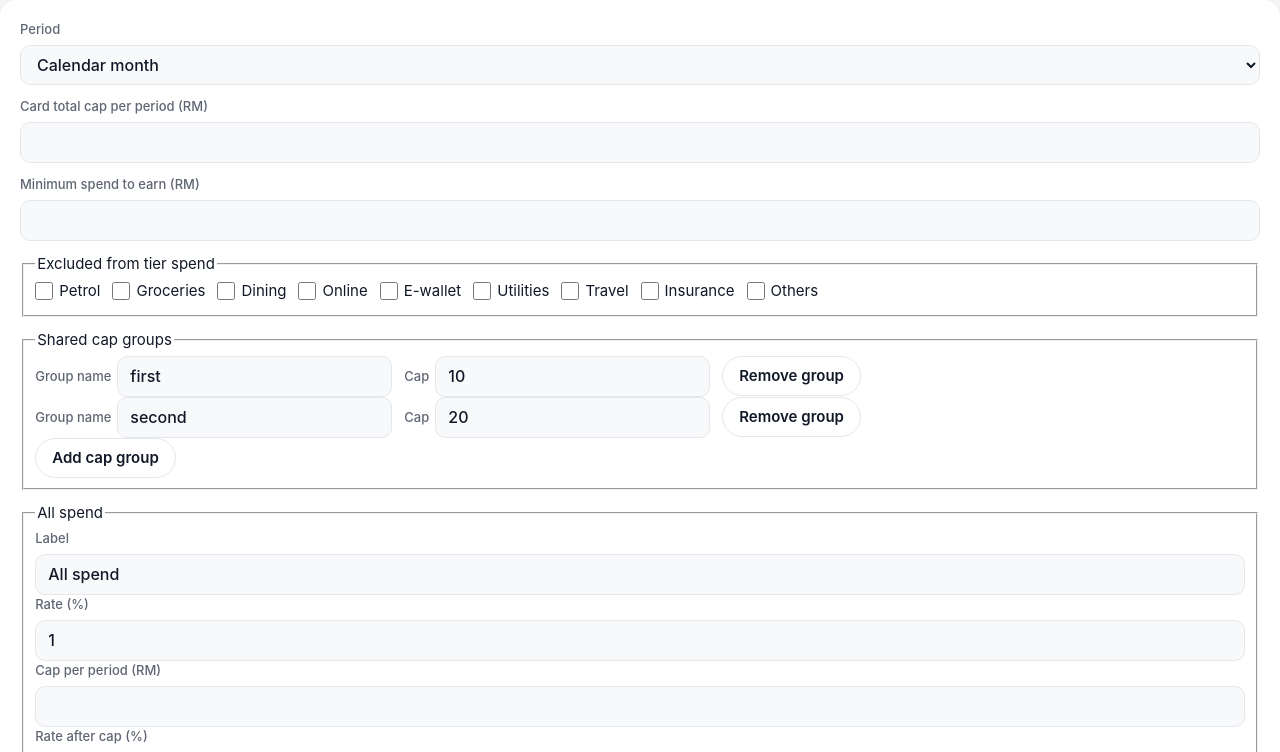
Test case: RuleEditor › keeps the right cap-group inputs after removing a non-last group
Click the 1st button "Remove group".
click(792, 376)  # box x1=722 y1=356 x2=861 y2=396
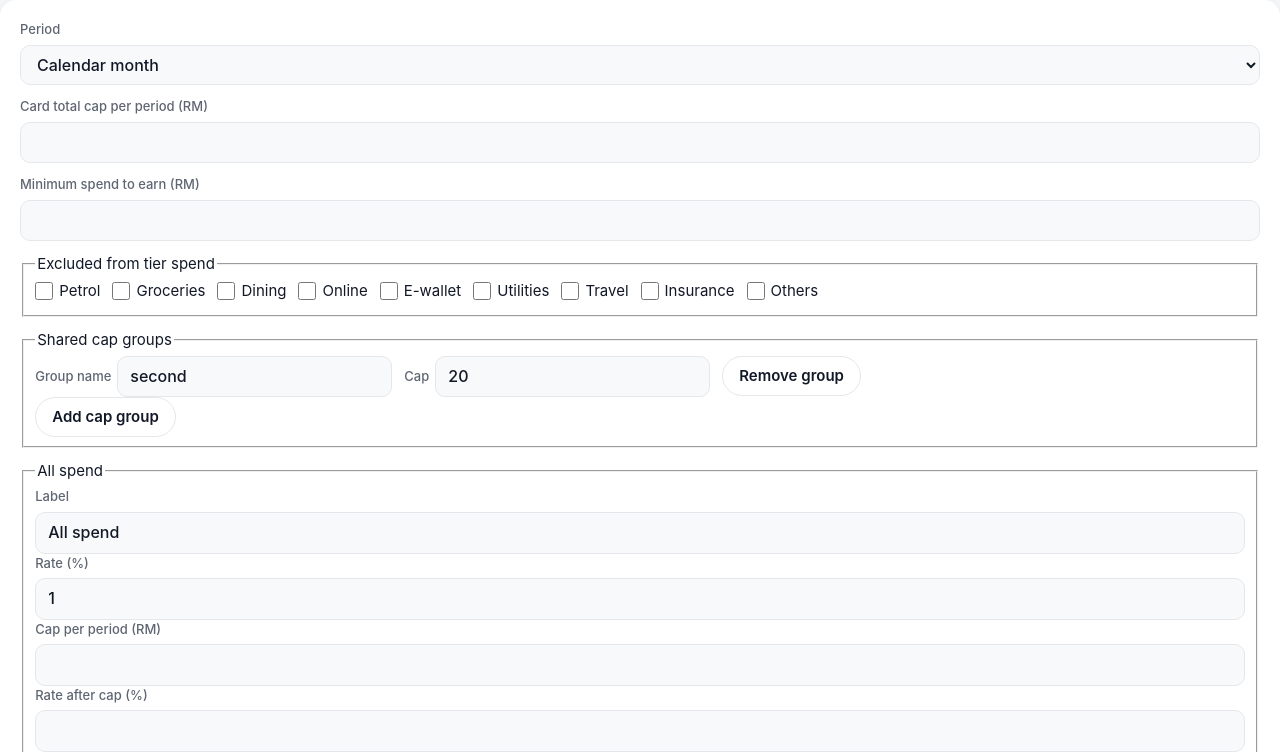
Expected: the field labelled "Group name" holds "second", x1=117 y1=356 x2=392 y2=397
Expected: the number of fields labelled "Group name" is 1, x1=117 y1=356 x2=392 y2=397
